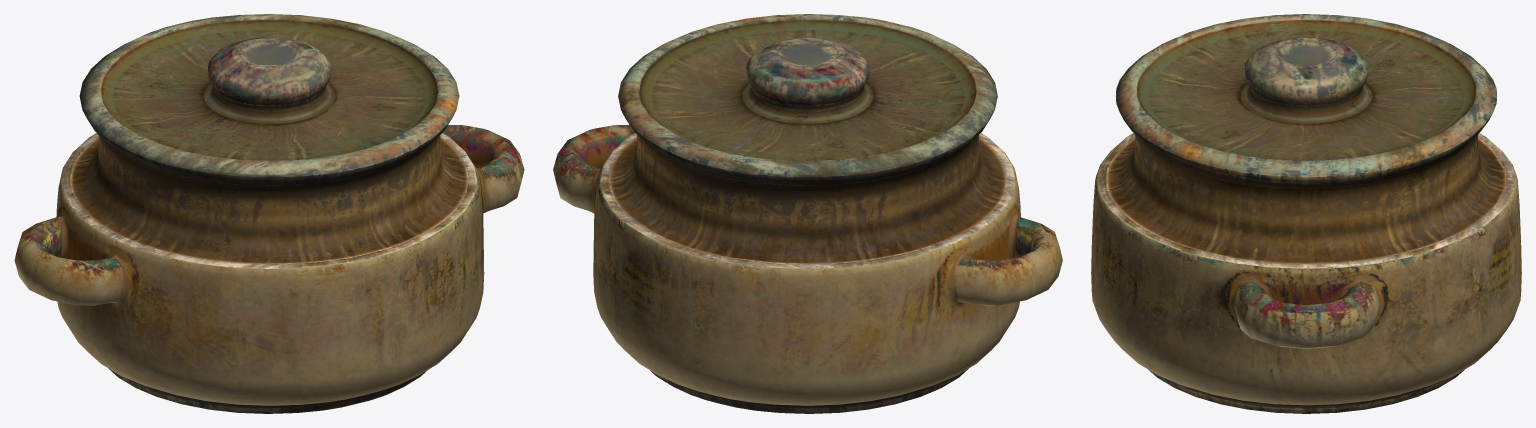
The model's file is ceramic_pot.glb.
The picture shows the model from 3 angles, left to right: view 1: azimuth 30°, elevation 25°; view 2: azimuth 150°, elevation 25°; view 3: azimuth 270°, elevation 25°; orthographic projection.
Visible parts, largest first — view 1: ceramic_pot; view 2: ceramic_pot; view 3: ceramic_pot.
Boxes of the visible parts, x1,y1,x2,y2 form: ceramic_pot: [14, 14, 524, 413]; ceramic_pot: [553, 14, 1062, 413]; ceramic_pot: [1091, 14, 1521, 413].
Size of the model in its own units: 0.6563 by 0.3717 by 0.5018.
Materials: 1 (1 with a texture image).
